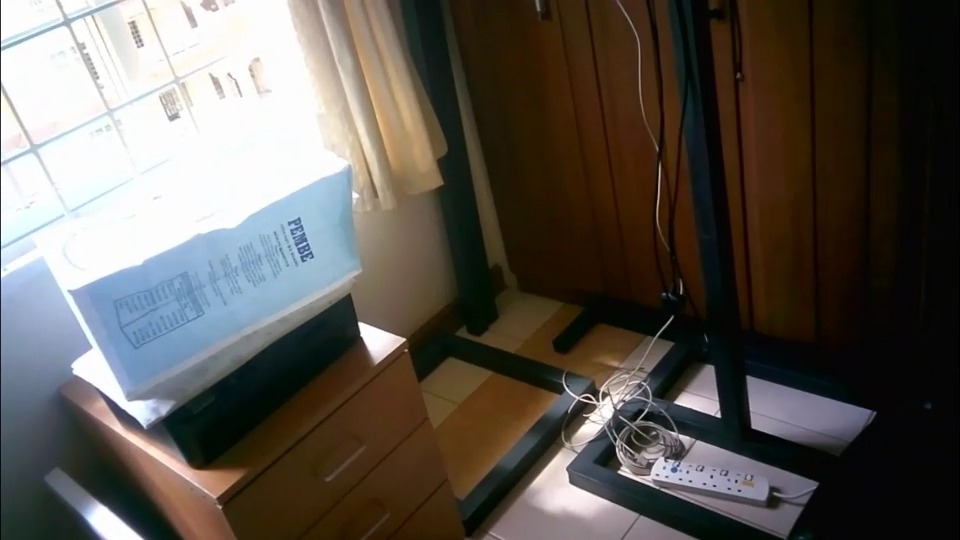wheat_flour_blue_label: (37, 155, 365, 396)
